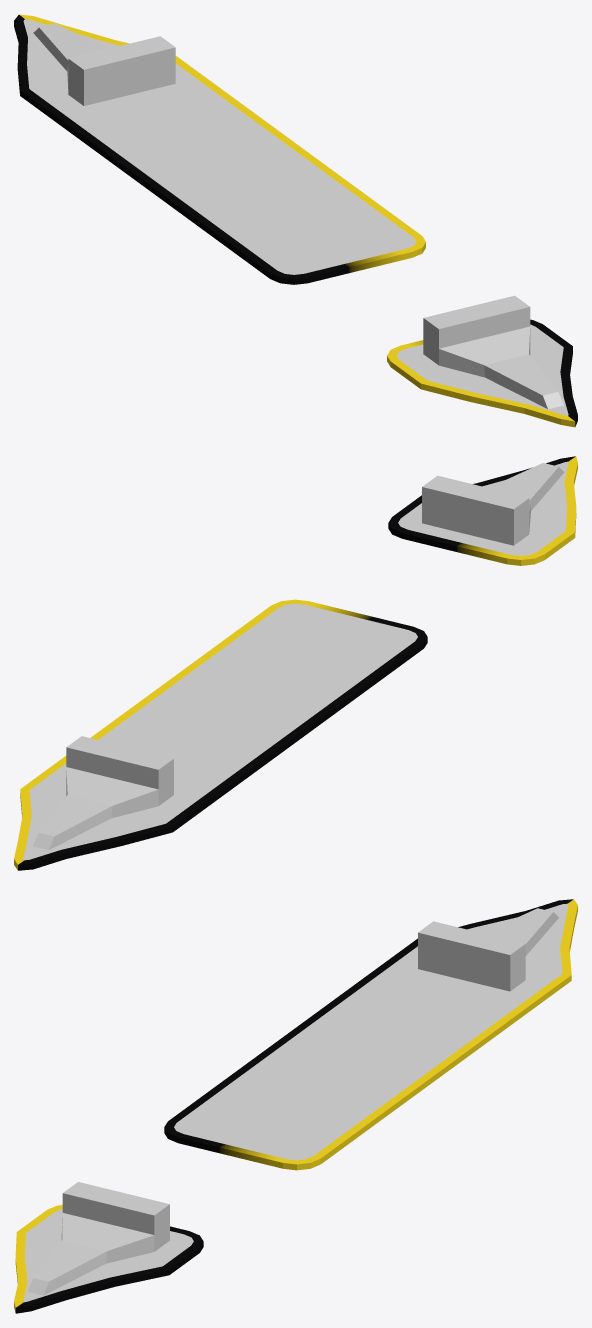
File: TrotoarBooth.fbx
3 views of the same model, one above another, from view 1: azimuth 30°, elevation 25°; view 2: azimuth 150°, elevation 25°; view 3: azimuth 330°, elevation 25° (orthographic).
Parts seen in each view (by area): view 1: TrotoarDalam.002; view 2: TrotoarDalam.002; view 3: TrotoarDalam.002.
Part boxes in pixels (<box>): TrotoarDalam.002: <box>14,14,577,427</box>; TrotoarDalam.002: <box>14,456,577,870</box>; TrotoarDalam.002: <box>14,899,577,1313</box>.
Bounding box in the file's own units: 570 × 151 × 3608.
2 materials, 1 textured.
